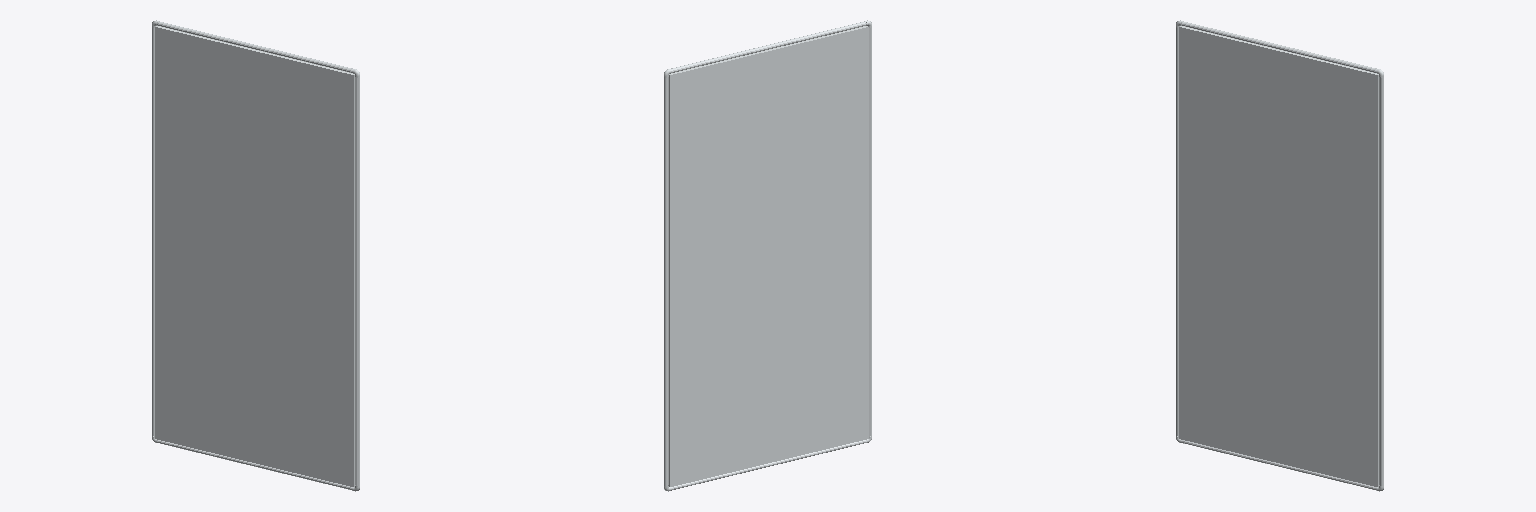
robot.urdf — Assemgrabber.SLDASM:
<?xml version="1.0" encoding="utf-8"?>
<!-- This URDF was automatically created by SolidWorks to URDF Exporter! Originally created by [author] ([email redacted]) 
     Commit Version: 1.5.0-0-g9aa0fdb  Build Version: 1.5.7004.21443
     For more information, please see http://wiki.ros.org/sw_urdf_exporter -->
<robot
  name="Assemgrabber.SLDASM">
  <link
    name="base_link">
    <inertial>
      <origin
        xyz="0.0178877960760716 0.0306292654574009 0.0302130108442199"
        rpy="0 0 0" />
      <mass
        value="0.0294576750345769" />
      <inertia
        ixx="6.57795592618768E-06"
        ixy="2.68754607924579E-23"
        ixz="-5.59962051630292E-11"
        iyy="3.00217496863448E-06"
        iyz="2.44210051738576E-10"
        izz="6.57784516547106E-06" />
    </inertial>
    <visual>
      <origin
        xyz="0 0 0"
        rpy="0 0 0" />
      <geometry>
        <mesh
          filename="model://Assemgrabber.SLDASM/meshes/base_link.STL" />
      </geometry>
      <material
        name="">
        <color
          rgba="0.898039215686275 0.917647058823529 0.929411764705882 1" />
      </material>
    </visual>
    <collision>
      <origin
        xyz="0 0 0"
        rpy="0 0 0" />
      <geometry>
        <mesh
          filename="model://Assemgrabber.SLDASM/meshes/base_link.STL" />
      </geometry>
    </collision>
  </link>
  <link
    name="Flexible_link_1">
    <inertial>
      <origin
        xyz="0.025 -0.00400000000000001 0.0005"
        rpy="0 0 0" />
      <mass
        value="0.000425132741228719" />
      <inertia
        ixx="2.34469025037008E-09"
        ixy="6.82424005356248E-24"
        ixz="1.0009956839209E-25"
        iyy="1.03519320184986E-07"
        iyz="-5.17122146115134E-26"
        izz="1.05793154978484E-07" />
    </inertial>
    <visual>
      <origin
        xyz="0 0 0"
        rpy="0 0 0" />
      <geometry>
        <mesh
          filename="model://Assemgrabber.SLDASM/meshes/Flexible_link_1.STL" />
      </geometry>
      <material
        name="">
        <color
          rgba="0.792156862745098 0.819607843137255 0.933333333333333 1" />
      </material>
    </visual>
    <collision>
      <origin
        xyz="0 0 0"
        rpy="0 0 0" />
      <geometry>
        <mesh
          filename="model://Assemgrabber.SLDASM/meshes/Flexible_link_1.STL" />
      </geometry>
    </collision>
  </link>
  <joint
    name="Flexible_link_1"
    type="revolute">
    <origin
      xyz="0.036666 -0.033714 0.02858"
      rpy="1.5708 1.1855 0" />
    <parent
      link="base_link" />
    <child
      link="Flexible_link_1" />
    <axis
      xyz="0 0 0" />
    <limit
      lower="0"
      upper="0"
      effort="0"
      velocity="0" />
    <safety_controller
      k_velocity="0" />
  </joint>
  <link
    name="Arm_Link_1">
    <inertial>
      <origin
        xyz="0.00699462575180507 -0.0160544117663347 0.0015"
        rpy="0 0 0" />
      <mass
        value="0.00636891311174936" />
      <inertia
        ixx="2.70980541999786E-06"
        ixy="1.62840868050855E-06"
        ixz="-1.19386526352088E-23"
        iyy="1.55344457107788E-06"
        iyz="3.95235246399399E-24"
        izz="4.25369662140811E-06" />
    </inertial>
    <visual>
      <origin
        xyz="0 0 0"
        rpy="0 0 0" />
      <geometry>
        <mesh
          filename="model://Assemgrabber.SLDASM/meshes/Arm_Link_1.STL" />
      </geometry>
      <material
        name="">
        <color
          rgba="0.898039215686275 0.917647058823529 0.929411764705882 1" />
      </material>
    </visual>
    <collision>
      <origin
        xyz="0 0 0"
        rpy="0 0 0" />
      <geometry>
        <mesh
          filename="model://Assemgrabber.SLDASM/meshes/Arm_Link_1.STL" />
      </geometry>
    </collision>
  </link>
  <joint
    name="Arm_Link_1"
    type="revolute">
    <origin
      xyz="0.056537 -0.00036242 -0.005"
      rpy="0 0 1.0719" />
    <parent
      link="Flexible_link_1" />
    <child
      link="Arm_Link_1" />
    <axis
      xyz="0 0 0" />
    <limit
      lower="0"
      upper="0"
      effort="0"
      velocity="0" />
    <safety_controller
      k_velocity="0" />
  </joint>
  <link
    name="Flexible_link_2">
    <inertial>
      <origin
        xyz="0.025 -0.00400000000000001 0.000500000000000004"
        rpy="0 0 0" />
      <mass
        value="0.000425132741228718" />
      <inertia
        ixx="2.34469025037008E-09"
        ixy="2.02659250075492E-23"
        ixz="-1.83983484730099E-25"
        iyy="1.03519320184986E-07"
        iyz="3.31721906726946E-26"
        izz="1.05793154978484E-07" />
    </inertial>
    <visual>
      <origin
        xyz="0 0 0"
        rpy="0 0 0" />
      <geometry>
        <mesh
          filename="model://Assemgrabber.SLDASM/meshes/Flexible_link_2.STL" />
      </geometry>
      <material
        name="">
        <color
          rgba="0.792156862745098 0.819607843137255 0.933333333333333 1" />
      </material>
    </visual>
    <collision>
      <origin
        xyz="0 0 0"
        rpy="0 0 0" />
      <geometry>
        <mesh
          filename="model://Assemgrabber.SLDASM/meshes/Flexible_link_2.STL" />
      </geometry>
    </collision>
  </link>
  <joint
    name="Flexible_link_2"
    type="revolute">
    <origin
      xyz="-0.00088996 -0.026714 0.02858"
      rpy="1.5708 1.1855 -3.1416" />
    <parent
      link="base_link" />
    <child
      link="Flexible_link_2" />
    <axis
      xyz="0 0 0" />
    <limit
      lower="0"
      upper="0"
      effort="0"
      velocity="0" />
    <safety_controller
      k_velocity="0" />
  </joint>
  <link
    name="Arm_Link_2">
    <inertial>
      <origin
        xyz="0.0069946257518051 -0.0160544117663347 0.0015"
        rpy="0 0 0" />
      <mass
        value="0.00636891311174937" />
      <inertia
        ixx="2.70980541999786E-06"
        ixy="1.62840868050855E-06"
        ixz="-5.51258956577989E-22"
        iyy="1.55344457107788E-06"
        iyz="5.37465042748954E-22"
        izz="4.25369662140812E-06" />
    </inertial>
    <visual>
      <origin
        xyz="0 0 0"
        rpy="0 0 0" />
      <geometry>
        <mesh
          filename="model://Assemgrabber.SLDASM/meshes/Arm_Link_2.STL" />
      </geometry>
      <material
        name="">
        <color
          rgba="0.898039215686275 0.917647058823529 0.929411764705882 1" />
      </material>
    </visual>
    <collision>
      <origin
        xyz="0 0 0"
        rpy="0 0 0" />
      <geometry>
        <mesh
          filename="model://Assemgrabber.SLDASM/meshes/Arm_Link_2.STL" />
      </geometry>
    </collision>
  </link>
  <joint
    name="Arm_Link_2"
    type="revolute">
    <origin
      xyz="0.056537 -0.00036242 -0.005"
      rpy="0 0 1.0719" />
    <parent
      link="Flexible_link_2" />
    <child
      link="Arm_Link_2" />
    <axis
      xyz="0 0 0" />
    <limit
      lower="0"
      upper="0"
      effort="0"
      velocity="0" />
    <safety_controller
      k_velocity="0" />
  </joint>
  <link
    name="Flexible_link_3">
    <inertial>
      <origin
        xyz="0.025 -0.004 0.0005"
        rpy="0 0 0" />
      <mass
        value="0.000425132741228718" />
      <inertia
        ixx="2.34469025037008E-09"
        ixy="-2.90030202276405E-23"
        ixz="-9.4032970999093E-24"
        iyy="1.03519320184986E-07"
        iyz="-1.02253139093414E-25"
        izz="1.05793154978484E-07" />
    </inertial>
    <visual>
      <origin
        xyz="0 0 0"
        rpy="0 0 0" />
      <geometry>
        <mesh
          filename="model://Assemgrabber.SLDASM/meshes/Flexible_link_3.STL" />
      </geometry>
      <material
        name="">
        <color
          rgba="0.792156862745098 0.819607843137255 0.933333333333333 1" />
      </material>
    </visual>
    <collision>
      <origin
        xyz="0 0 0"
        rpy="0 0 0" />
      <geometry>
        <mesh
          filename="model://Assemgrabber.SLDASM/meshes/Flexible_link_3.STL" />
      </geometry>
    </collision>
  </link>
  <joint
    name="Flexible_link_3"
    type="revolute">
    <origin
      xyz="0.021388 -0.067785 -0.017753"
      rpy="1.5708 -1.1855 1.5708" />
    <parent
      link="base_link" />
    <child
      link="Flexible_link_3" />
    <axis
      xyz="0 0 0" />
    <limit
      lower="0"
      upper="0"
      effort="0"
      velocity="0" />
    <safety_controller
      k_velocity="0" />
  </joint>
  <link
    name="Arm_Link_3">
    <inertial>
      <origin
        xyz="0.00699462575180507 -0.0160544117663347 0.0015"
        rpy="0 0 0" />
      <mass
        value="0.00636891311174937" />
      <inertia
        ixx="2.70980541999787E-06"
        ixy="1.62840868050855E-06"
        ixz="-8.65326522436964E-23"
        iyy="1.55344457107788E-06"
        iyz="3.37665415382407E-22"
        izz="4.25369662140812E-06" />
    </inertial>
    <visual>
      <origin
        xyz="0 0 0"
        rpy="0 0 0" />
      <geometry>
        <mesh
          filename="model://Assemgrabber.SLDASM/meshes/Arm_Link_3.STL" />
      </geometry>
      <material
        name="">
        <color
          rgba="0.898039215686275 0.917647058823529 0.929411764705882 1" />
      </material>
    </visual>
    <collision>
      <origin
        xyz="0 0 0"
        rpy="0 0 0" />
      <geometry>
        <mesh
          filename="model://Assemgrabber.SLDASM/meshes/Arm_Link_3.STL" />
      </geometry>
    </collision>
  </link>
  <joint
    name="Arm_Link_3"
    type="revolute">
    <origin
      xyz="-0.0065373 -0.00036242 -0.002"
      rpy="-3.1416 0 2.0697" />
    <parent
      link="Flexible_link_3" />
    <child
      link="Arm_Link_3" />
    <axis
      xyz="0 0 0" />
    <limit
      lower="0"
      upper="0"
      effort="0"
      velocity="0" />
    <safety_controller
      k_velocity="0" />
  </joint>
  <link
    name="Flexible_link_4">
    <inertial>
      <origin
        xyz="0.025 -0.004 0.000499999999999997"
        rpy="0 0 0" />
      <mass
        value="0.000425132741228718" />
      <inertia
        ixx="2.34469025037009E-09"
        ixy="1.56130340619384E-23"
        ixz="3.72793290407271E-24"
        iyy="1.03519320184986E-07"
        iyz="5.08173415936527E-25"
        izz="1.05793154978484E-07" />
    </inertial>
    <visual>
      <origin
        xyz="0 0 0"
        rpy="0 0 0" />
      <geometry>
        <mesh
          filename="model://Assemgrabber.SLDASM/meshes/Flexible_link_4.STL" />
      </geometry>
      <material
        name="">
        <color
          rgba="0.792156862745098 0.819607843137255 0.933333333333333 1" />
      </material>
    </visual>
    <collision>
      <origin
        xyz="0 0 0"
        rpy="0 0 0" />
      <geometry>
        <mesh
          filename="model://Assemgrabber.SLDASM/meshes/Flexible_link_4.STL" />
      </geometry>
    </collision>
  </link>
  <joint
    name="Flexible_link_4"
    type="revolute">
    <origin
      xyz="0.021388 -0.011436 0.02858"
      rpy="1.5708 1.1855 1.5708" />
    <parent
      link="base_link" />
    <child
      link="Flexible_link_4" />
    <axis
      xyz="0 0 0" />
    <limit
      lower="0"
      upper="0"
      effort="0"
      velocity="0" />
    <safety_controller
      k_velocity="0" />
  </joint>
  <link
    name="Arm_Link_4">
    <inertial>
      <origin
        xyz="0.00699462575180507 -0.0160544117663347 0.0015"
        rpy="0 0 0" />
      <mass
        value="0.00636891311174936" />
      <inertia
        ixx="2.70980541999786E-06"
        ixy="1.62840868050855E-06"
        ixz="3.56325265067872E-22"
        iyy="1.55344457107788E-06"
        iyz="-3.8290250044664E-22"
        izz="4.25369662140812E-06" />
    </inertial>
    <visual>
      <origin
        xyz="0 0 0"
        rpy="0 0 0" />
      <geometry>
        <mesh
          filename="model://Assemgrabber.SLDASM/meshes/Arm_Link_4.STL" />
      </geometry>
      <material
        name="">
        <color
          rgba="0.898039215686275 0.917647058823529 0.929411764705882 1" />
      </material>
    </visual>
    <collision>
      <origin
        xyz="0 0 0"
        rpy="0 0 0" />
      <geometry>
        <mesh
          filename="model://Assemgrabber.SLDASM/meshes/Arm_Link_4.STL" />
      </geometry>
    </collision>
  </link>
  <joint
    name="Arm_Link_4"
    type="revolute">
    <origin
      xyz="0.056537 -0.00036242 -0.005"
      rpy="0 0 1.0719" />
    <parent
      link="Flexible_link_4" />
    <child
      link="Arm_Link_4" />
    <axis
      xyz="0 0 0" />
    <limit
      lower="0"
      upper="0"
      effort="0"
      velocity="0" />
    <safety_controller
      k_velocity="0" />
  </joint>
  <link
    name="Slider">
    <inertial>
      <origin
        xyz="-0.00999999999999999 -0.0109699555847652 0.00999999999999998"
        rpy="0 0 0" />
      <mass
        value="0.0345519950256604" />
      <inertia
        ixx="7.79369022074973E-06"
        ixy="6.04304838686463E-21"
        ixz="-7.85175347071821E-23"
        iyy="3.38753866003025E-06"
        iyz="2.46471660623838E-21"
        izz="7.79369022074974E-06" />
    </inertial>
    <visual>
      <origin
        xyz="0 0 0"
        rpy="0 0 0" />
      <geometry>
        <mesh
          filename="model://Assemgrabber.SLDASM/meshes/Slider.STL" />
      </geometry>
      <material
        name="">
        <color
          rgba="0.898039215686275 0.917647058823529 0.929411764705882 1" />
      </material>
    </visual>
    <collision>
      <origin
        xyz="0 0 0"
        rpy="0 0 0" />
      <geometry>
        <mesh
          filename="model://Assemgrabber.SLDASM/meshes/Slider.STL" />
      </geometry>
    </collision>
  </link>
  <joint
    name="Slider"
    type="prismatic">
    <origin
      xyz="0.0078878 -0.020214 0"
      rpy="1.5708 0 1.5708" />
    <parent
      link="base_link" />
    <child
      link="Slider" />
    <axis
      xyz="0 1 0" />
    <limit
      lower="-0.0010462"
      upper="0.0089538"
      effort="0"
      velocity="0" />
    <safety_controller
      k_velocity="0" />
  </joint>
  <link
    name="Arm_1">
    <inertial>
      <origin
        xyz="0.00699462575180508 -0.0160544117663347 0.0015"
        rpy="0 0 0" />
      <mass
        value="0.00636891311174936" />
      <inertia
        ixx="2.70980541999786E-06"
        ixy="1.62840868050855E-06"
        ixz="3.55681287168556E-22"
        iyy="1.55344457107788E-06"
        iyz="-3.88723223341081E-22"
        izz="4.25369662140812E-06" />
    </inertial>
    <visual>
      <origin
        xyz="0 0 0"
        rpy="0 0 0" />
      <geometry>
        <mesh
          filename="model://Assemgrabber.SLDASM/meshes/Arm_1.STL" />
      </geometry>
      <material
        name="">
        <color
          rgba="0.898039215686275 0.917647058823529 0.929411764705882 1" />
      </material>
    </visual>
    <collision>
      <origin
        xyz="0 0 0"
        rpy="0 0 0" />
      <geometry>
        <mesh
          filename="model://Assemgrabber.SLDASM/meshes/Arm_1.STL" />
      </geometry>
    </collision>
  </link>
  <joint
    name="Arm_1"
    type="revolute">
    <origin
      xyz="0.029693 -0.023947 0.0085"
      rpy="0 0 -0.11356" />
    <parent
      link="Slider" />
    <child
      link="Arm_1" />
    <axis
      xyz="0 0 0" />
    <limit
      lower="0"
      upper="0"
      effort="0"
      velocity="0" />
    <safety_controller
      k_velocity="0" />
  </joint>
  <link
    name="Arm_2">
    <inertial>
      <origin
        xyz="0.0069946257518051 -0.0160544117663347 0.0015"
        rpy="0 0 0" />
      <mass
        value="0.00636891311174937" />
      <inertia
        ixx="2.70980541999786E-06"
        ixy="1.62840868050855E-06"
        ixz="-5.48989445133751E-22"
        iyy="1.55344457107788E-06"
        iyz="5.38849277470755E-22"
        izz="4.25369662140812E-06" />
    </inertial>
    <visual>
      <origin
        xyz="0 0 0"
        rpy="0 0 0" />
      <geometry>
        <mesh
          filename="model://Assemgrabber.SLDASM/meshes/Arm_2.STL" />
      </geometry>
      <material
        name="">
        <color
          rgba="0.898039215686275 0.917647058823529 0.929411764705882 1" />
      </material>
    </visual>
    <collision>
      <origin
        xyz="0 0 0"
        rpy="0 0 0" />
      <geometry>
        <mesh
          filename="model://Assemgrabber.SLDASM/meshes/Arm_2.STL" />
      </geometry>
    </collision>
  </link>
  <joint
    name="Arm_2"
    type="revolute">
    <origin
      xyz="-0.0115 -0.023947 -0.029693"
      rpy="-1.5708 1.4572 -1.5708" />
    <parent
      link="Slider" />
    <child
      link="Arm_2" />
    <axis
      xyz="0 0 0" />
    <limit
      lower="0"
      upper="0"
      effort="0"
      velocity="0" />
    <safety_controller
      k_velocity="0" />
  </joint>
  <link
    name="Arm_3">
    <inertial>
      <origin
        xyz="0.00699462575180508 -0.0160544117663347 0.0015"
        rpy="0 0 0" />
      <mass
        value="0.00636891311174937" />
      <inertia
        ixx="2.70980541999786E-06"
        ixy="1.62840868050855E-06"
        ixz="-8.43635354093298E-23"
        iyy="1.55344457107788E-06"
        iyz="3.38241150243246E-22"
        izz="4.25369662140812E-06" />
    </inertial>
    <visual>
      <origin
        xyz="0 0 0"
        rpy="0 0 0" />
      <geometry>
        <mesh
          filename="model://Assemgrabber.SLDASM/meshes/Arm_3.STL" />
      </geometry>
      <material
        name="">
        <color
          rgba="0.898039215686275 0.917647058823529 0.929411764705882 1" />
      </material>
    </visual>
    <collision>
      <origin
        xyz="0 0 0"
        rpy="0 0 0" />
      <geometry>
        <mesh
          filename="model://Assemgrabber.SLDASM/meshes/Arm_3.STL" />
      </geometry>
    </collision>
  </link>
  <joint
    name="Arm_3"
    type="revolute">
    <origin
      xyz="-0.049693 -0.023947 0.0115"
      rpy="-3.1416 0 -3.028" />
    <parent
      link="Slider" />
    <child
      link="Arm_3" />
    <axis
      xyz="0 0 0" />
    <limit
      lower="0"
      upper="0"
      effort="0"
      velocity="0" />
    <safety_controller
      k_velocity="0" />
  </joint>
  <link
    name="Arm_4">
    <inertial>
      <origin
        xyz="0.00699462575180507 -0.0160544117663347 0.0015"
        rpy="0 0 0" />
      <mass
        value="0.00636891311174936" />
      <inertia
        ixx="2.70980541999786E-06"
        ixy="1.62840868050855E-06"
        ixz="-1.39133023319807E-23"
        iyy="1.55344457107788E-06"
        iyz="3.17262633118344E-24"
        izz="4.25369662140811E-06" />
    </inertial>
    <visual>
      <origin
        xyz="0 0 0"
        rpy="0 0 0" />
      <geometry>
        <mesh
          filename="model://Assemgrabber.SLDASM/meshes/Arm_4.STL" />
      </geometry>
      <material
        name="">
        <color
          rgba="0.898039215686275 0.917647058823529 0.929411764705882 1" />
      </material>
    </visual>
    <collision>
      <origin
        xyz="0 0 0"
        rpy="0 0 0" />
      <geometry>
        <mesh
          filename="model://Assemgrabber.SLDASM/meshes/Arm_4.STL" />
      </geometry>
    </collision>
  </link>
  <joint
    name="Arm_4"
    type="revolute">
    <origin
      xyz="-0.0085 -0.023947 0.049693"
      rpy="1.5708 -1.4572 -1.5708" />
    <parent
      link="Slider" />
    <child
      link="Arm_4" />
    <axis
      xyz="0 0 0" />
    <limit
      lower="0"
      upper="0"
      effort="0"
      velocity="0" />
    <safety_controller
      k_velocity="0" />
  </joint>
</robot>

--- What the picture shows (computed from the rendered views, not written in the file) ---
The picture shows the robot from 3 angles, left to right: view 1: azimuth 90°, elevation 25°; view 2: azimuth 150°, elevation 25°; view 3: azimuth 270°, elevation 25°; orthographic projection.
Robot: Assemgrabber.SLDASM — 14 links, 13 joints (12 revolute, 1 prismatic); root link base_link; default pose: all joints at 0.
Links seen in each view (by area): view 1: base_link; view 2: base_link; view 3: base_link.
Boxes of the visible links, x1,y1,x2,y2 form: base_link: [152, 20, 359, 491]; base_link: [664, 20, 871, 491]; base_link: [1176, 20, 1383, 491].
Bounding box of the posed robot: 0.3319 × 0.5643 × 1.26 m (x, y, z).
1 mesh visuals loaded from 14 distinct referenced files (1 binary STL); not drawn: 13 (reference not matched to a file when rendering).